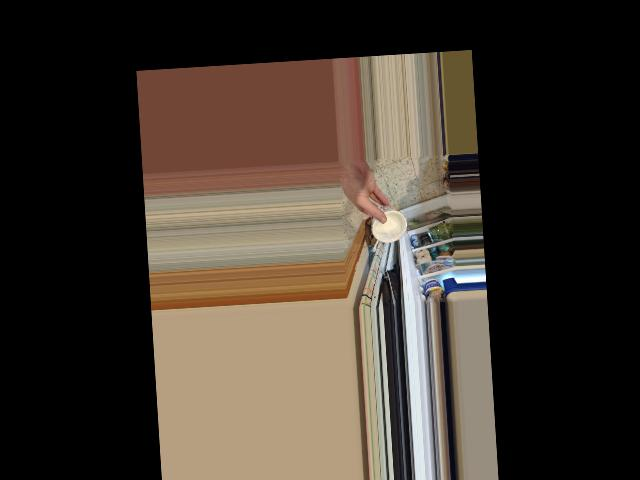cotage: (369, 201, 407, 248)
